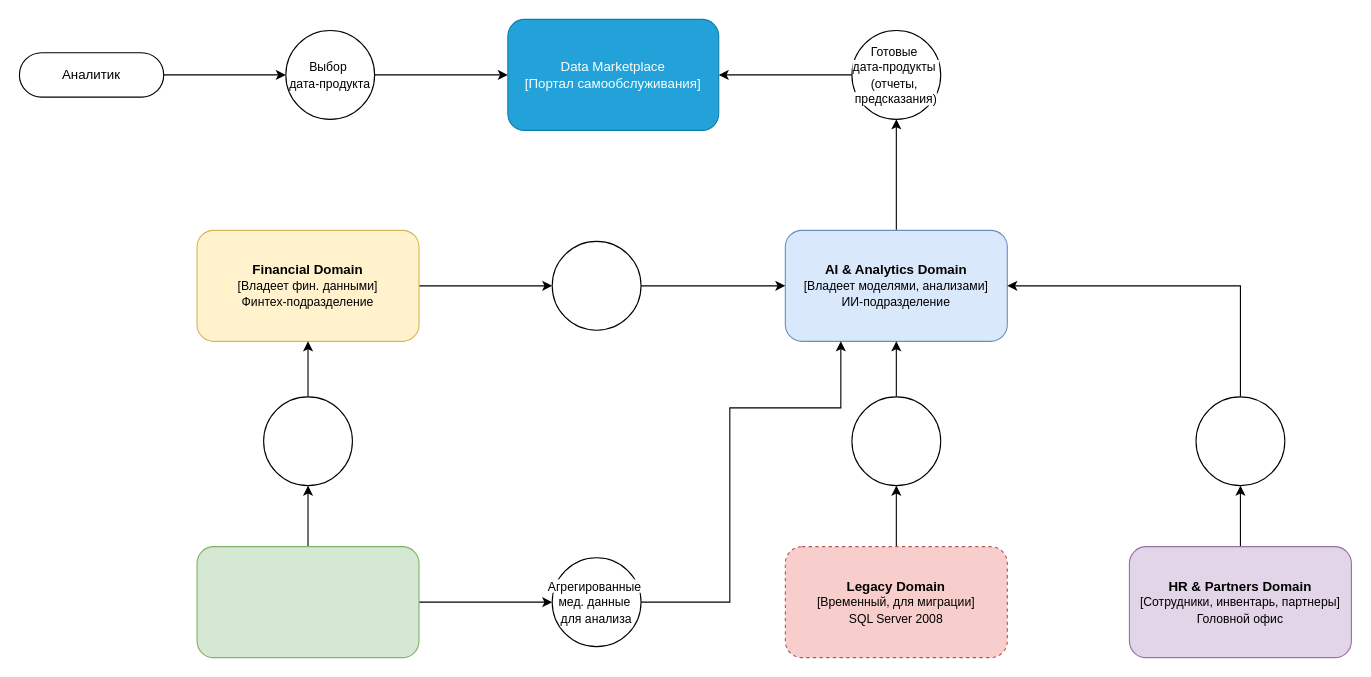
Image size: 1371x677. Some labels were removed from this diagram. The shapes that lost their labels are listed below. From the top down, each one's centre as x and y in pixels, then its label:
the point at 596,285: Анонимизированные фин. данные для моделей
the point at 307,441: Подтверждение оплаты
the point at 896,441: Данные для миграции (постепенно прекращается)
the point at 1240,441: Данные по персоналу для анализа
the point at 307,602: Medical Domain [Владеет медицинскими данными] Клиники
